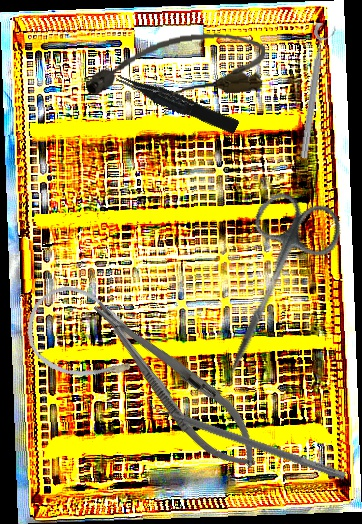Cannula: (14, 275, 159, 399), (82, 28, 269, 106)
Fixation Ring: (296, 22, 338, 160)
Iris Scissors: (193, 182, 349, 395)
Needle Holder: (77, 283, 274, 485)
Spatula Surgical: (140, 393, 350, 481)
Tissue Forceps: (114, 64, 240, 140)
